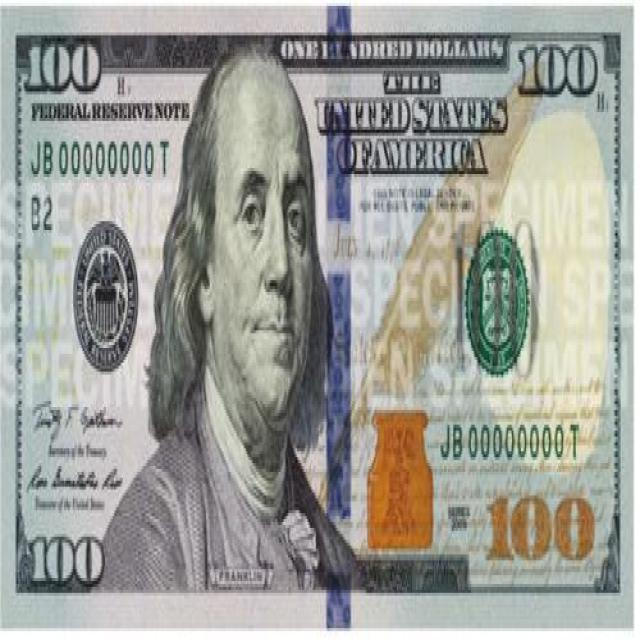100-Front: (0, 3, 634, 631)
